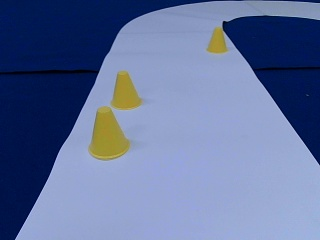cone: (89, 108, 130, 158), (110, 72, 142, 109), (207, 27, 226, 53)
